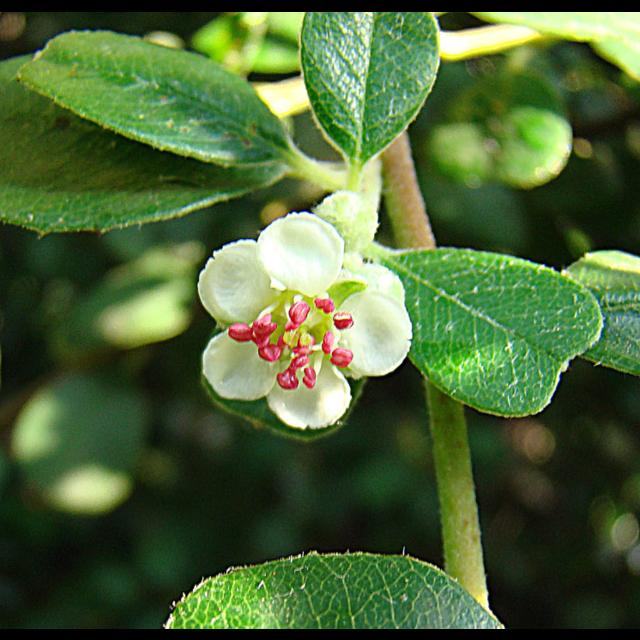Flower: (203, 205, 417, 433)
